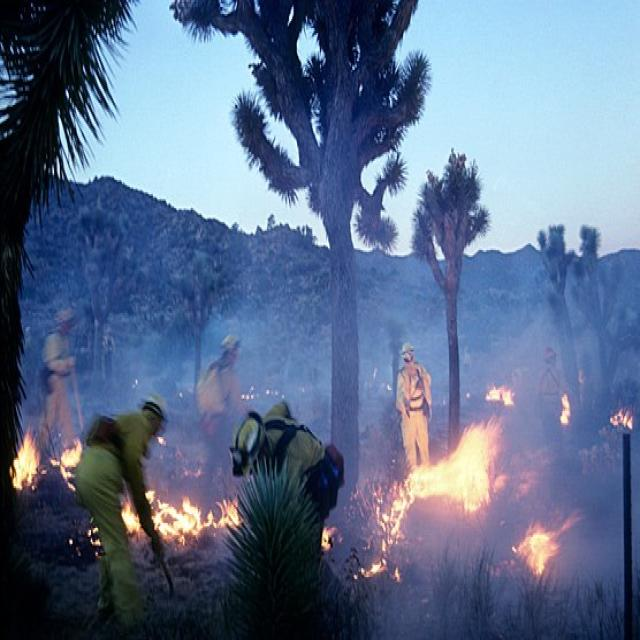Fire: (355, 420, 502, 584), (115, 490, 242, 545), (506, 502, 582, 582), (0, 421, 81, 495), (484, 380, 517, 410), (607, 402, 636, 430), (321, 517, 337, 550), (558, 390, 571, 428)
